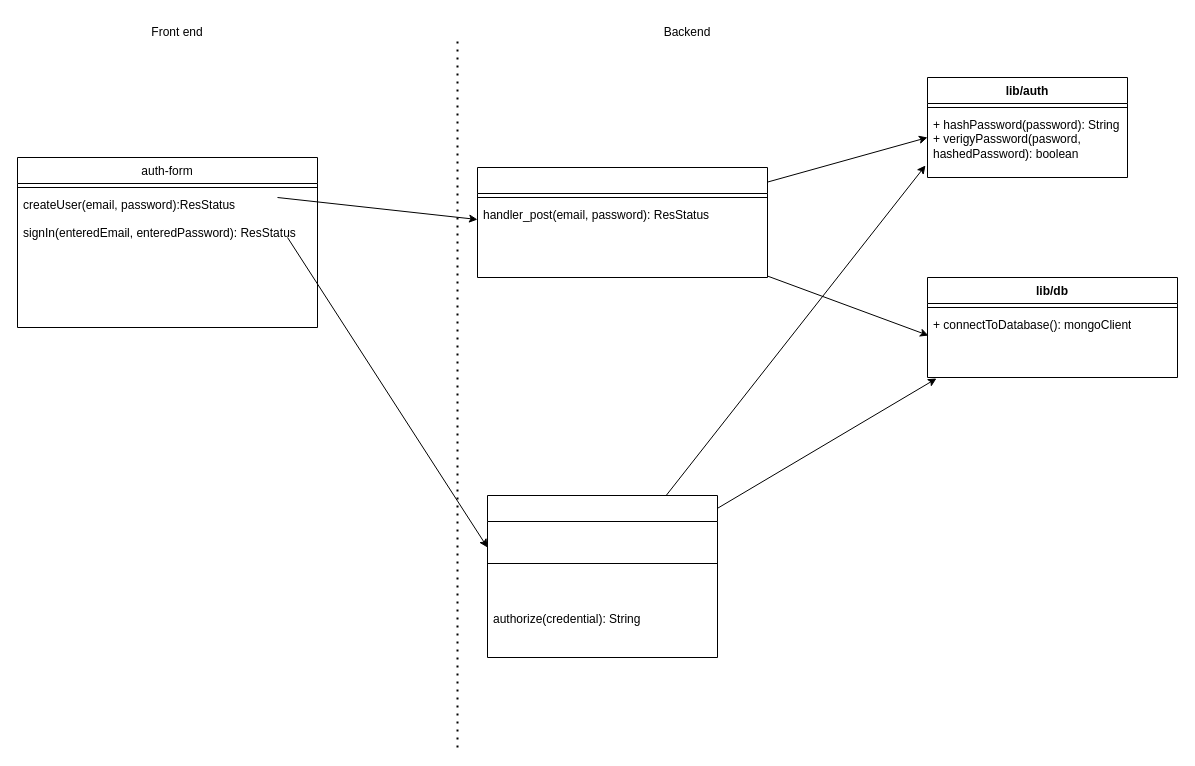
This 1195x766 diagram has some shape labels left out. Here are the shapes that lost their labels. From the top down, the box of each, then its label:
(476, 166, 768, 278): Signup
(486, 494, 718, 658): [...nextauth].js
